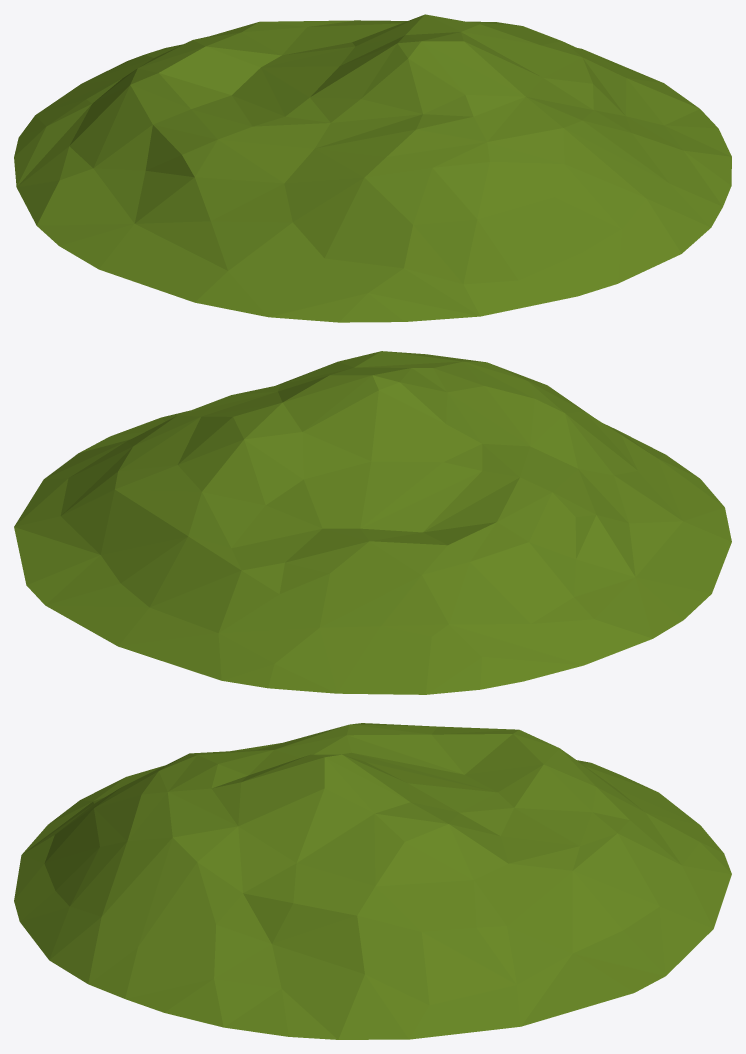
Rendered from Ground_B_03.fbx.
The picture shows the model from 3 angles, top to bottom: view 1: azimuth 30°, elevation 25°; view 2: azimuth 150°, elevation 25°; view 3: azimuth 270°, elevation 25°; orthographic projection.
Parts seen in each view (by area): view 1: Ground_B_03; view 2: Ground_B_03; view 3: Ground_B_03.
Boxes of the visible parts, x1=… form: Ground_B_03: x1=14, y1=14, x2=731, y2=322; Ground_B_03: x1=14, y1=351, x2=731, y2=694; Ground_B_03: x1=14, y1=723, x2=731, y2=1039.
Bounding box in the file's own units: 19.08 × 4.17 × 19.02.
